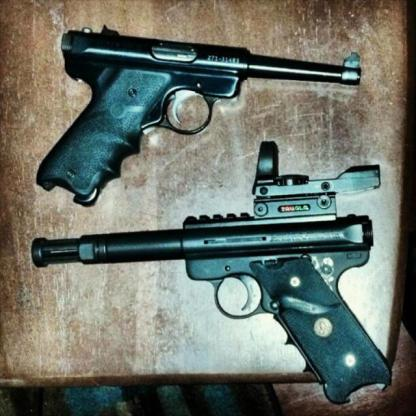weapon: (30, 142, 393, 405), (33, 22, 363, 207)
